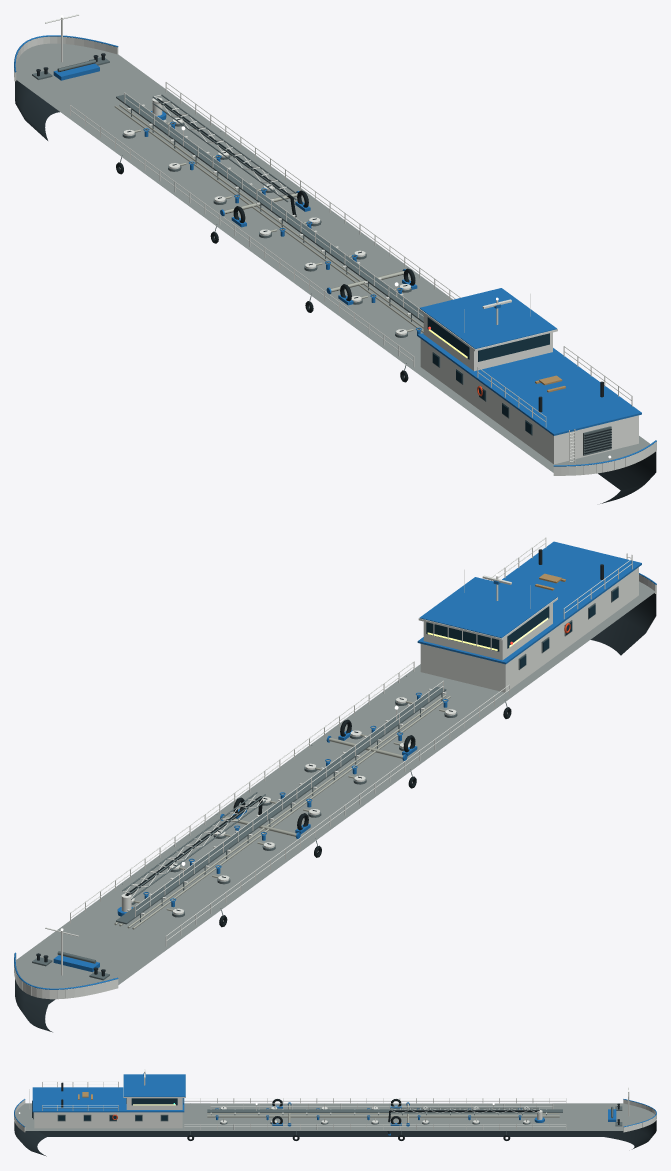
Rendered from bunkertanker-110-editable.glb.
3 renders of one model, top to bottom at view 1: azimuth 30°, elevation 25°; view 2: azimuth 150°, elevation 25°; view 3: azimuth 270°, elevation 25°, orthographic. The views are drawn at different scales.
Visible parts, largest first — view 1: Hull-and-deck-part-1, Hull-and-deck-part-128, Hull-and-deck-part-127, Hull-and-deck-part-131, Hull-and-deck-part-309, Hull, Hull-and-deck-part-129, Hull-and-deck-part-306, Hull-and-deck-part-305, Hull-and-deck-part-133; view 2: Hull-and-deck-part-1, Hull-and-deck-part-128, Hull-and-deck-part-127, Hull-and-deck-part-131, Hull-and-deck-part-309, Hull, Hull-and-deck-part-129, Hull-and-deck-part-306, Hull-and-deck-part-305, Hull-and-deck-part-132; view 3: Hull-and-deck-part-1, Hull, Hull-and-deck-part-128, Hull-and-deck-part-127, Hull-and-deck-part-131, Hull-and-deck-part-309, Hull-and-deck-part-75, Hull-and-deck-part-307, Hull-and-deck-part-308, Hull-and-deck-part-129, Hull-and-deck-part-102, Hull-and-deck-part-101 (+7 smaller).
Boxes of the visible parts, left/top/right/bottom form: Hull-and-deck-part-1: left=15, top=43, right=650, bottom=472; Hull-and-deck-part-128: left=417, top=333, right=641, bottom=435; Hull-and-deck-part-127: left=420, top=339, right=638, bottom=464; Hull-and-deck-part-131: left=419, top=288, right=556, bottom=349; Hull-and-deck-part-309: left=116, top=94, right=423, bottom=322; Hull: left=15, top=80, right=656, bottom=503; Hull-and-deck-part-129: left=423, top=314, right=552, bottom=371; Hull-and-deck-part-306: left=119, top=104, right=423, bottom=328; Hull-and-deck-part-305: left=114, top=105, right=423, bottom=332; Hull-and-deck-part-133: left=478, top=333, right=549, bottom=361; Hull-and-deck-part-1: left=16, top=581, right=655, bottom=988; Hull-and-deck-part-128: left=417, top=541, right=641, bottom=664; Hull-and-deck-part-127: left=420, top=567, right=638, bottom=692; Hull-and-deck-part-131: left=419, top=577, right=557, bottom=638; Hull-and-deck-part-309: left=116, top=686, right=446, bottom=924; Hull: left=15, top=593, right=656, bottom=1032; Hull-and-deck-part-129: left=423, top=603, right=552, bottom=660; Hull-and-deck-part-306: left=127, top=695, right=445, bottom=928; Hull-and-deck-part-305: left=132, top=696, right=450, bottom=929; Hull-and-deck-part-132: left=426, top=622, right=499, bottom=651; Hull-and-deck-part-1: left=15, top=1103, right=654, bottom=1130; Hull: left=14, top=1120, right=656, bottom=1156; Hull-and-deck-part-128: left=32, top=1087, right=184, bottom=1112; Hull-and-deck-part-127: left=34, top=1112, right=182, bottom=1128; Hull-and-deck-part-131: left=123, top=1074, right=185, bottom=1096; Hull-and-deck-part-309: left=207, top=1109, right=562, bottom=1112; Hull-and-deck-part-75: left=184, top=1100, right=565, bottom=1101; Hull-and-deck-part-307: left=207, top=1115, right=559, bottom=1116; Hull-and-deck-part-308: left=207, top=1116, right=559, bottom=1117; Hull-and-deck-part-129: left=126, top=1098, right=182, bottom=1109; Hull-and-deck-part-102: left=184, top=1124, right=565, bottom=1124; Hull-and-deck-part-101: left=184, top=1126, right=565, bottom=1126.
Bounding box in the file's own units: 11.36 × 14.09 × 107.
